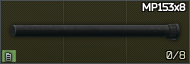MP-153 8-shell magazine extension: (0, 0, 190, 64)
